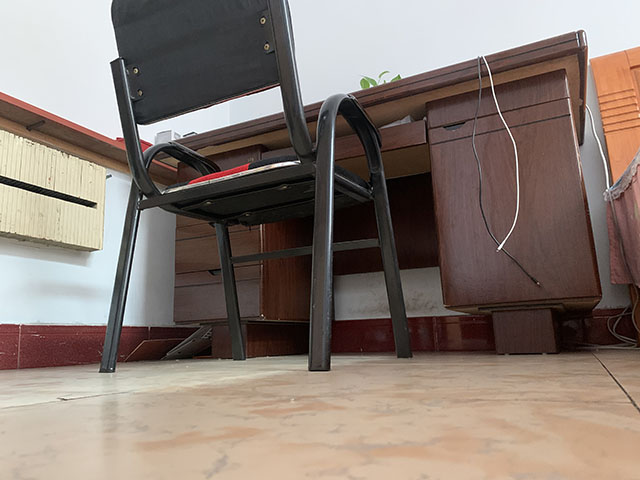stool: (95, 1, 418, 375)
table: (172, 28, 606, 360)
wire: (577, 102, 640, 354)
